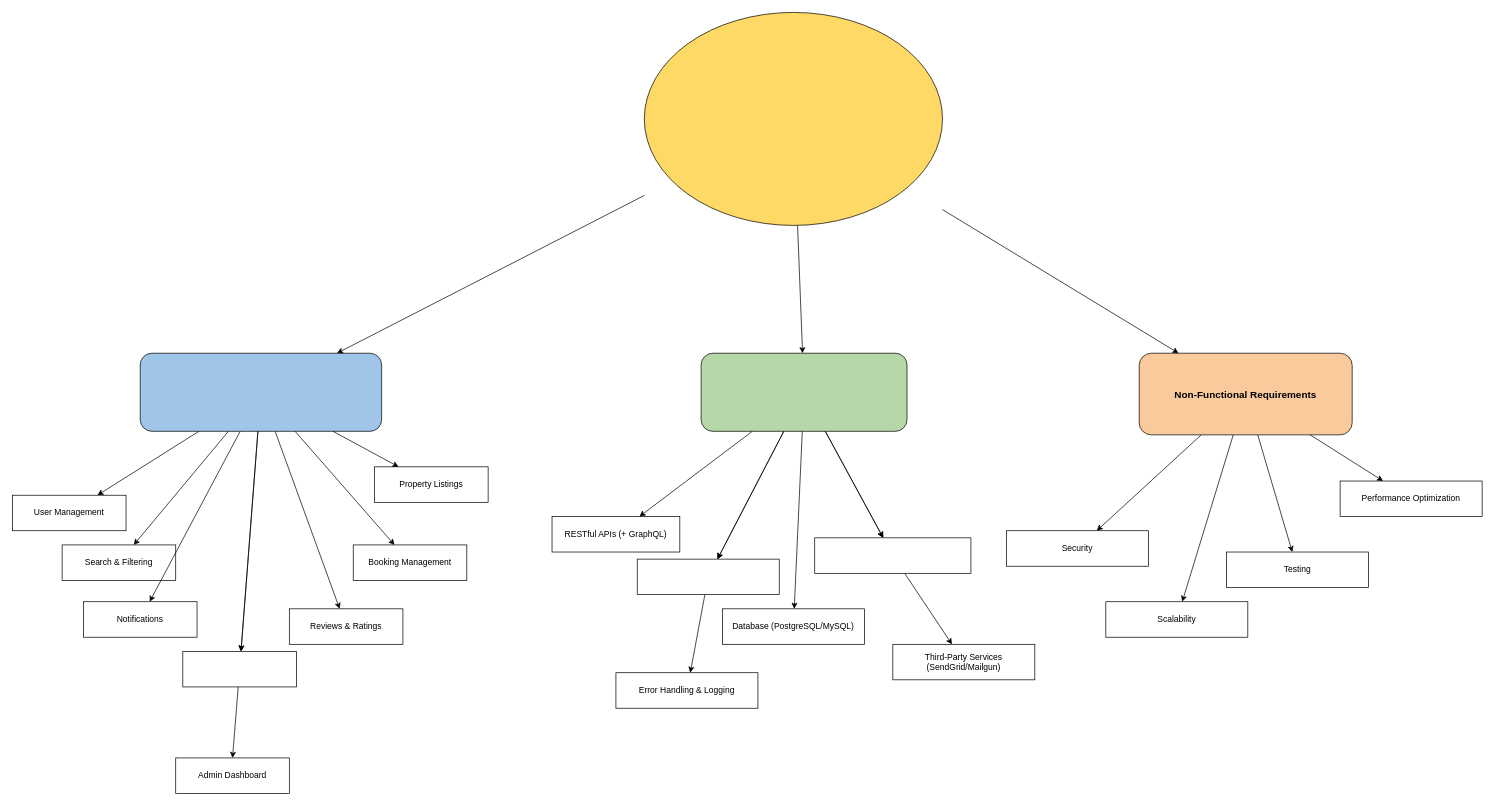
This 1495x806 diagram has some shape labels left out. The box of each missing label's shape, as (x1, y1, x2, y2) in pixels:
Airbnb Clone Backend: (644, 12, 943, 225)
Authentication & Authorization (JWT + RBAC): (814, 537, 971, 573)
Core Functionalities: (140, 353, 382, 431)
File Storage (AWS S3/Cloudinary): (637, 558, 779, 595)
Payments: (182, 651, 296, 687)
Technical Requirements: (700, 353, 907, 431)
